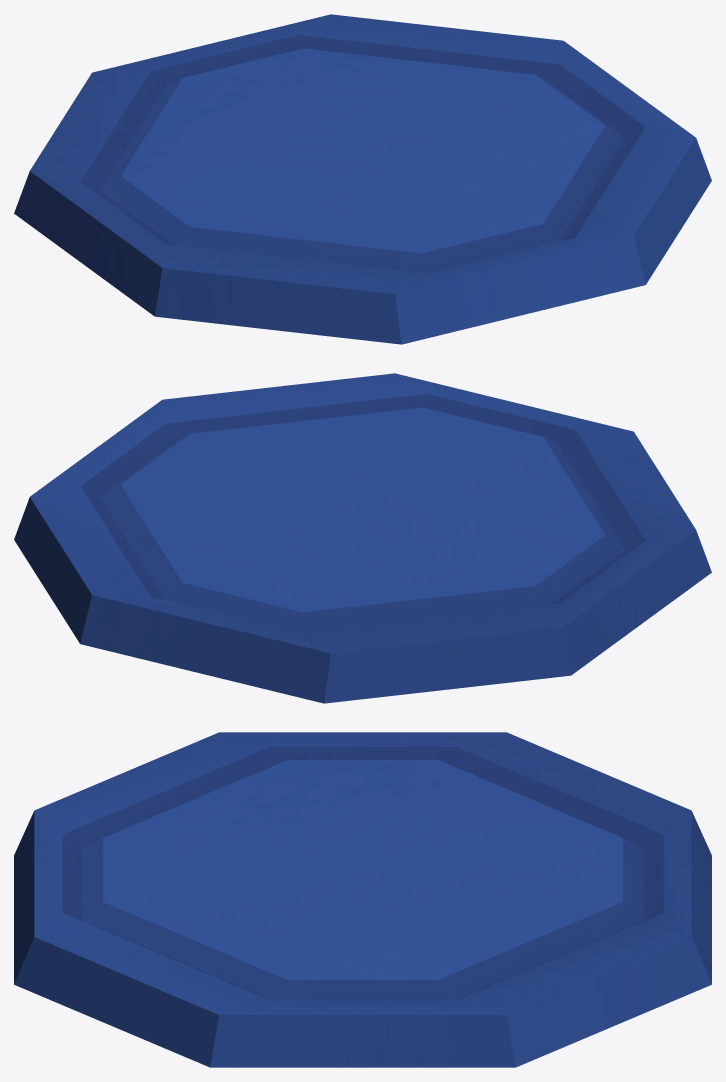
File: pressurePlate.fbx
3 views of the same model, one above another, from view 1: azimuth 30°, elevation 25°; view 2: azimuth 150°, elevation 25°; view 3: azimuth 270°, elevation 25° (orthographic). The views are drawn at different scales.
Parts seen in each view (by area): view 1: pCube202; view 2: pCube202; view 3: pCube202.
Part boxes in pixels (left/top/right/bottom): pCube202: left=14, top=14, right=711, bottom=344; pCube202: left=14, top=373, right=711, bottom=703; pCube202: left=14, top=732, right=711, bottom=1067.
Bounding box in the file's own units: 74.23 × 5.89 × 74.23.
